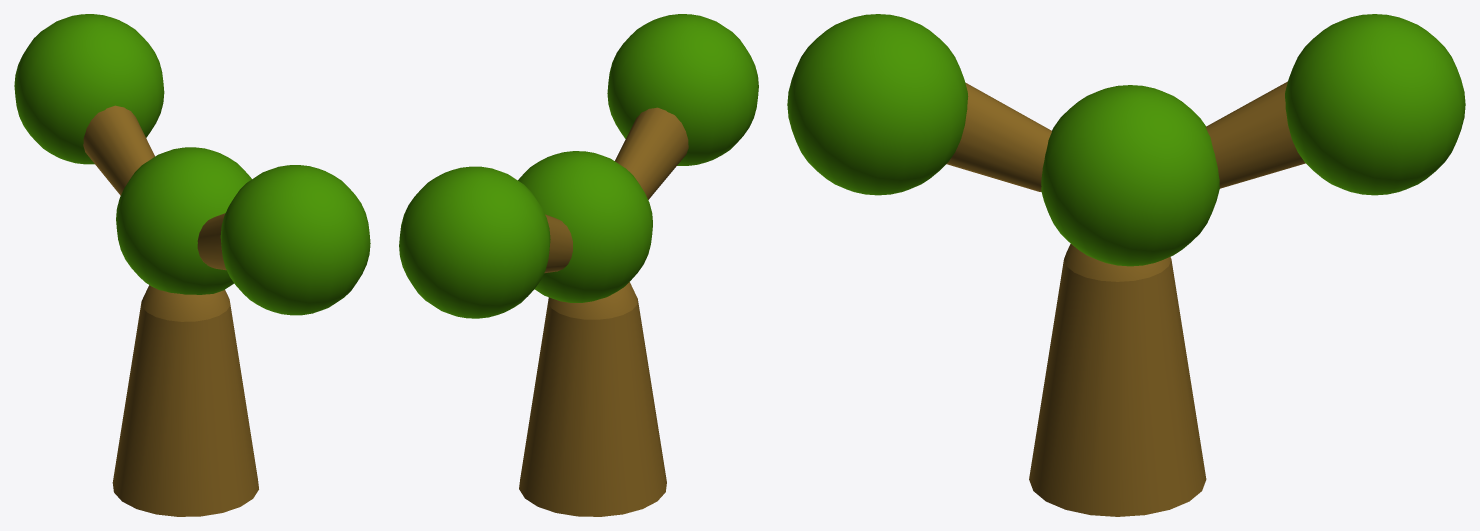
Rendered from simpleTreeB1.fbx.
The picture shows the model from 3 angles, left to right: view 1: azimuth 30°, elevation 25°; view 2: azimuth 150°, elevation 25°; view 3: azimuth 270°, elevation 25°; orthographic projection. The views are drawn at different scales.
Parts seen in each view (by area): view 1: pCylinder1, pSphere1, pSphere2, pSphere3, pCylinder2, pCylinder4; view 2: pCylinder1, pSphere2, pSphere1, pSphere3, pCylinder4, pCylinder2; view 3: pCylinder1, pSphere1, pSphere2, pSphere3, pCylinder4, pCylinder2.
Boxes of the visible parts, box(x1,y1,x2,y2) form: pCylinder1: box(112, 285, 258, 516); pSphere1: box(220, 165, 370, 315); pSphere2: box(14, 14, 164, 164); pSphere3: box(116, 147, 251, 294); pCylinder2: box(83, 105, 154, 195); pCylinder4: box(197, 213, 226, 270); pCylinder1: box(519, 282, 666, 516); pSphere2: box(399, 166, 550, 318); pSphere1: box(607, 14, 758, 165); pSphere3: box(518, 151, 652, 302); pCylinder4: box(615, 107, 688, 199); pCylinder2: box(544, 214, 572, 273); pCylinder1: box(1029, 244, 1206, 516); pSphere1: box(787, 14, 968, 195); pSphere2: box(1285, 14, 1465, 195); pSphere3: box(1041, 85, 1219, 266); pCylinder4: box(946, 82, 1051, 191); pCylinder2: box(1206, 81, 1305, 188).
Size of the model in its own units: 7.86 by 20.74 by 27.53.
